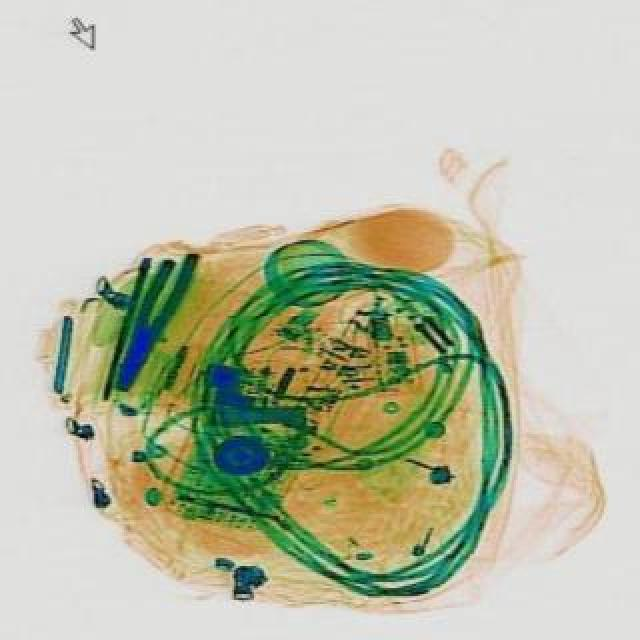wrench: (112, 246, 210, 400)
